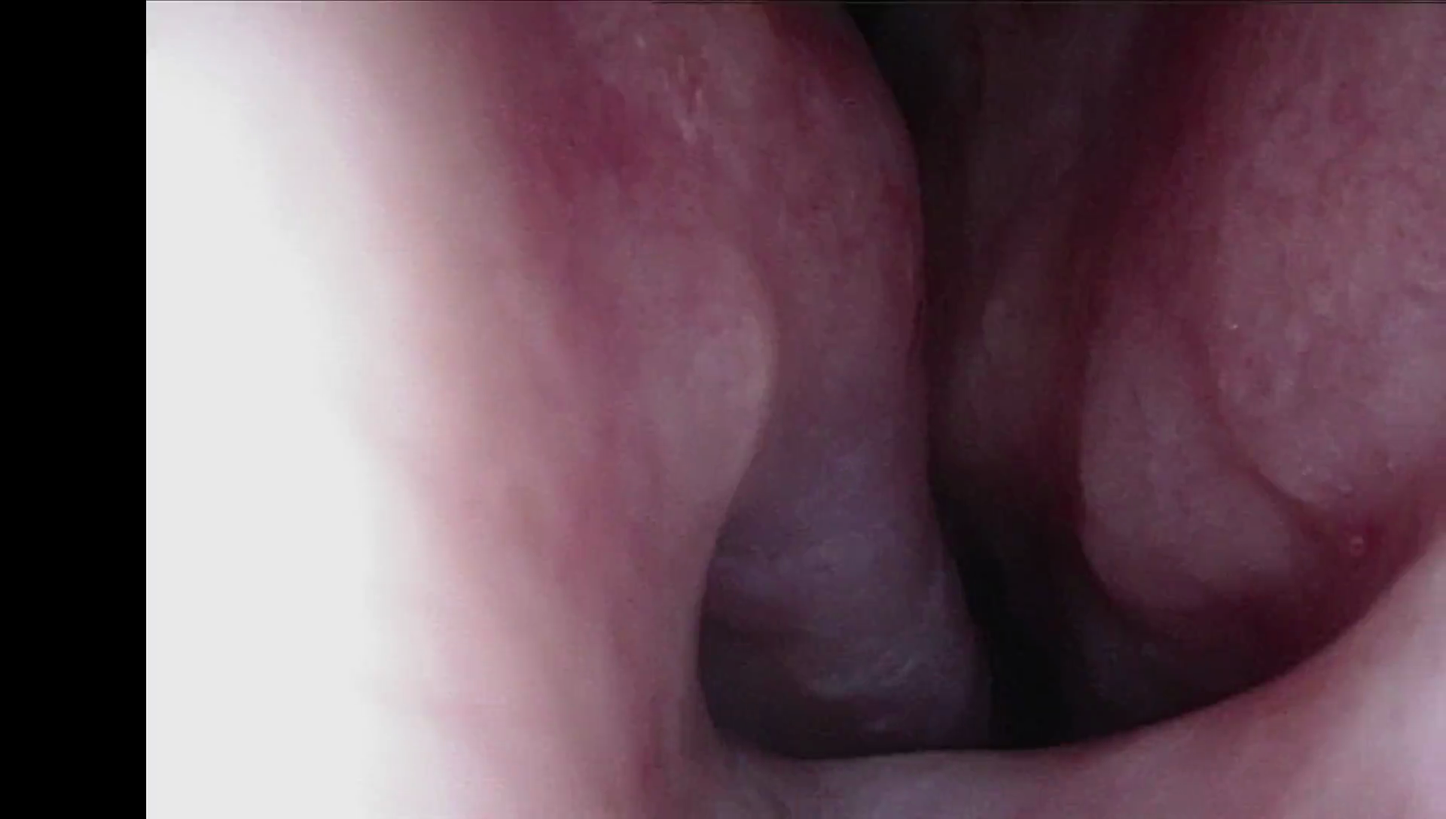close_wall: (151, 8, 675, 819)
next: (898, 452, 1148, 763), (708, 607, 928, 770), (840, 0, 1002, 197)
